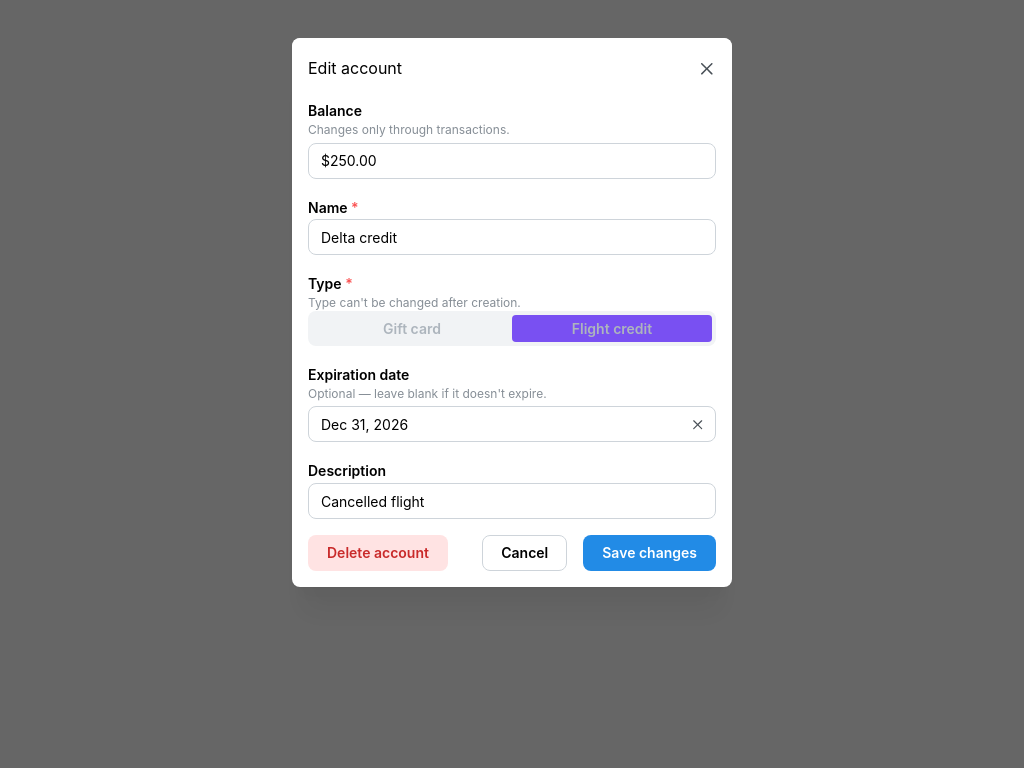
Scenario: EditAccountModal › after renaming the account › shows an error when the account can't be saved
Replace the text in the field labelled "Name *" with "Delta voucher" at (512, 237), box top-left (308, 219), bottom-right (716, 255)
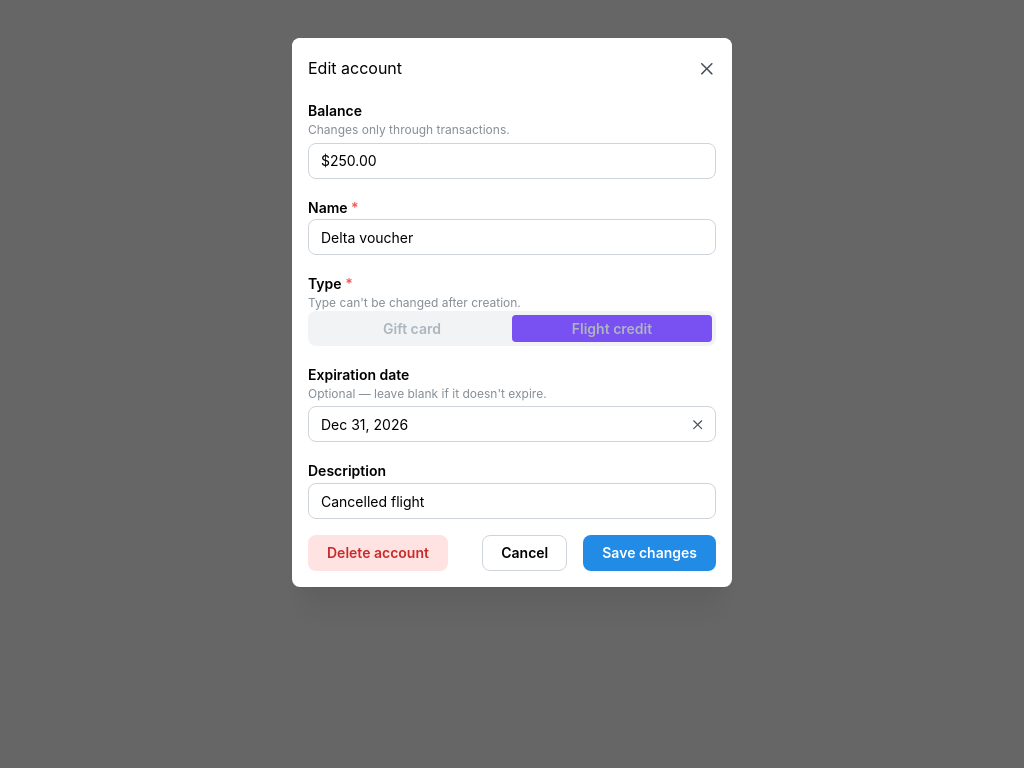
Click the button "Save changes" at (650, 553), box top-left (583, 535), bottom-right (716, 571)
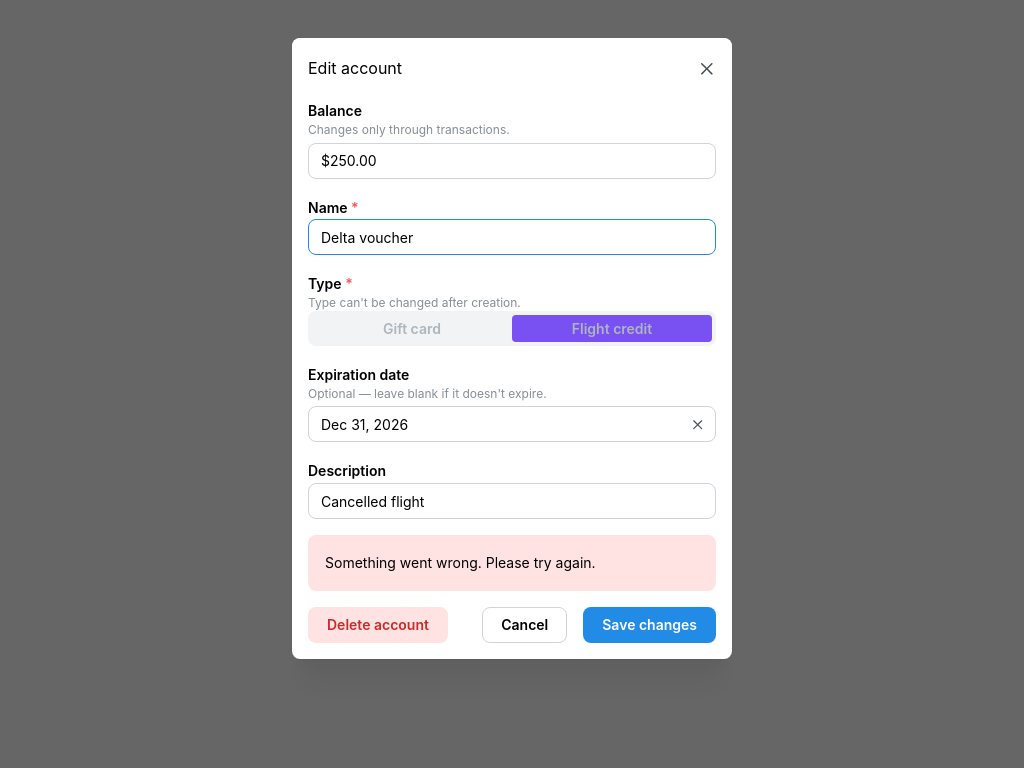
Now the message reads "Something went wrong. Please try again.", box top-left (325, 554), bottom-right (596, 571)
